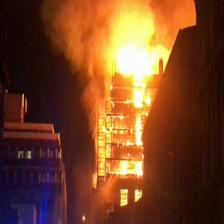fire: (88, 41, 148, 194), (42, 1, 182, 66)
